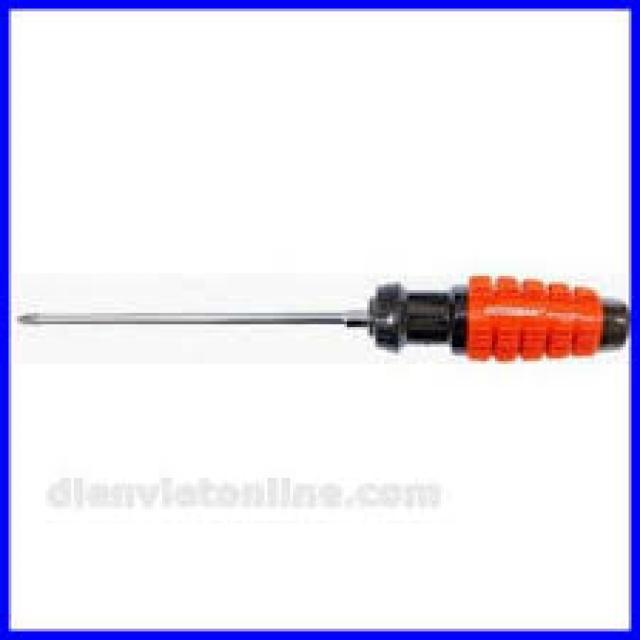screwdriver: (11, 270, 632, 367)
